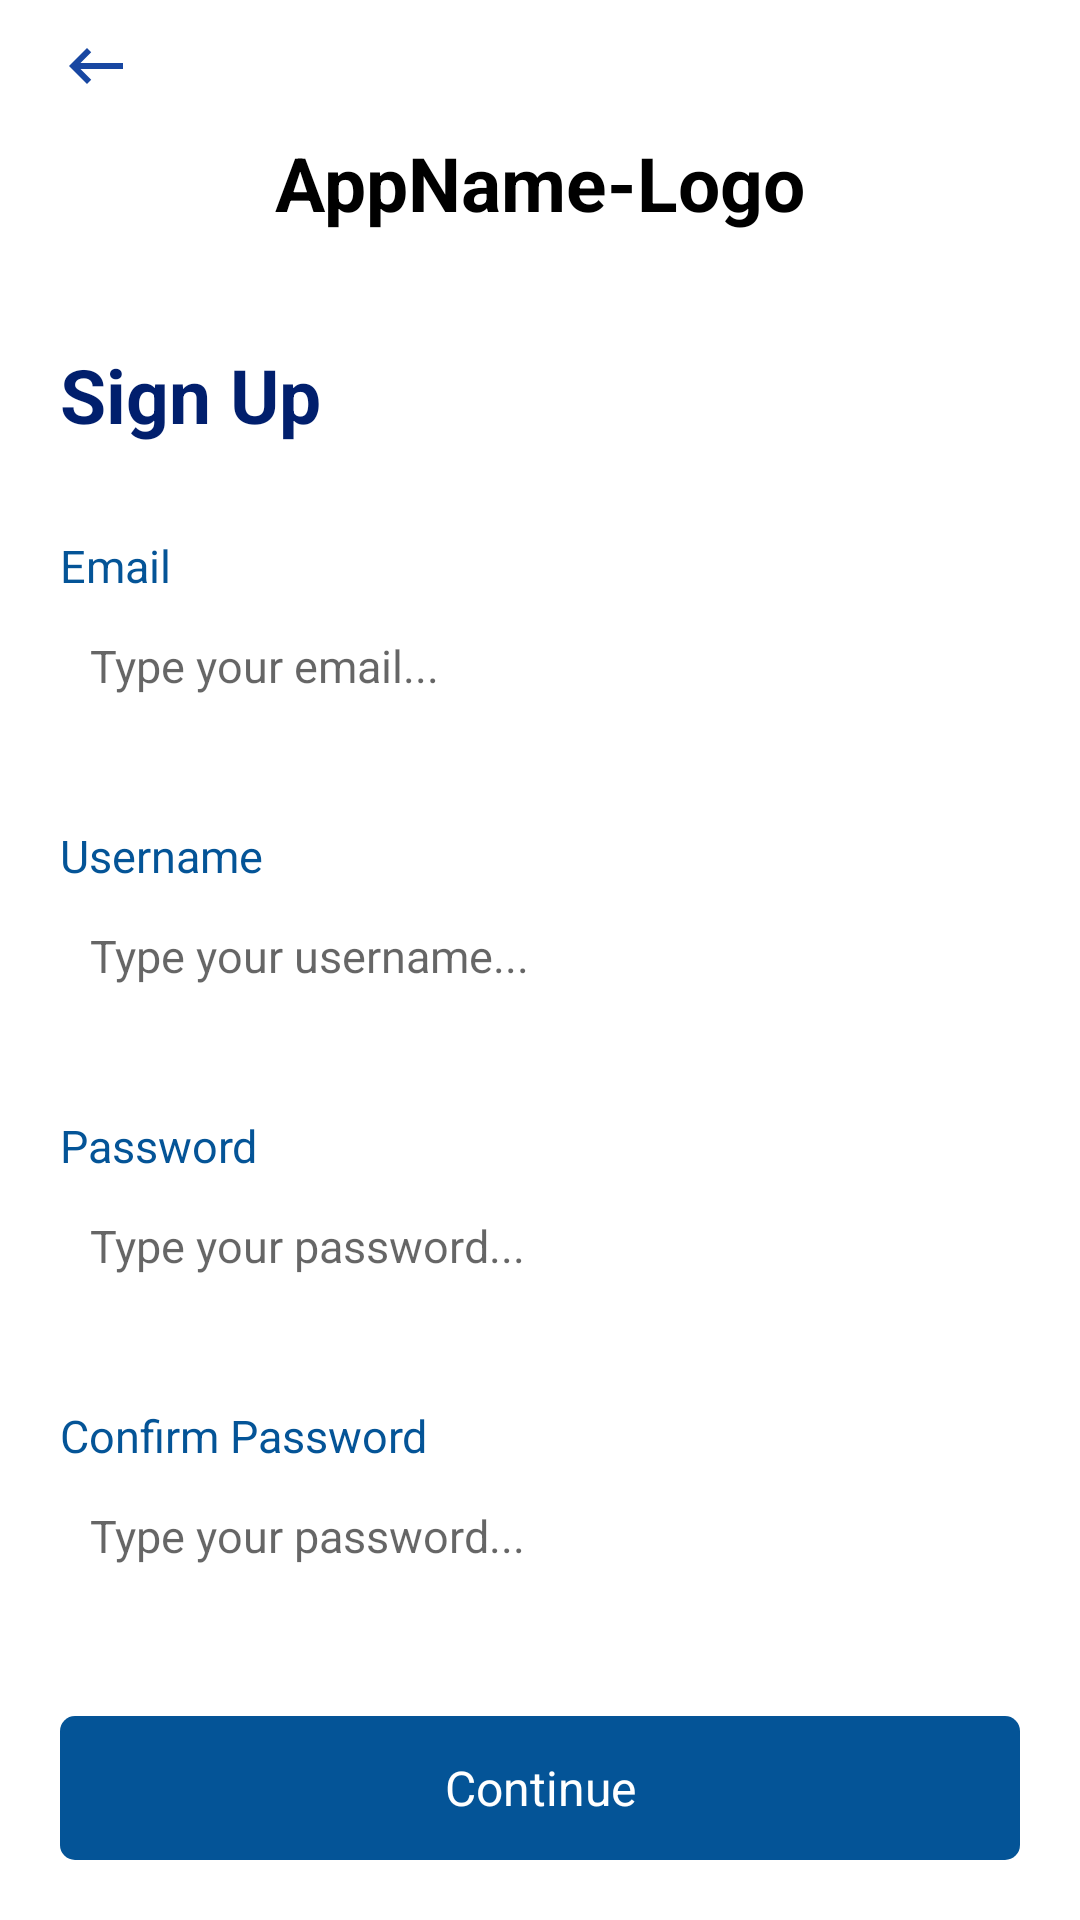

Named icons in this screenshot (1080 x 1920) and their bounding boxes, (x1, y1, x2, y2):
back: (69, 48, 123, 84)
